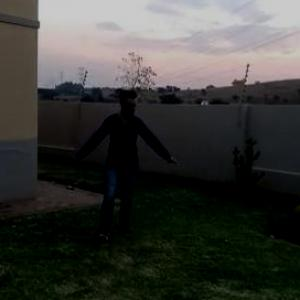land: (70, 86, 173, 247)
